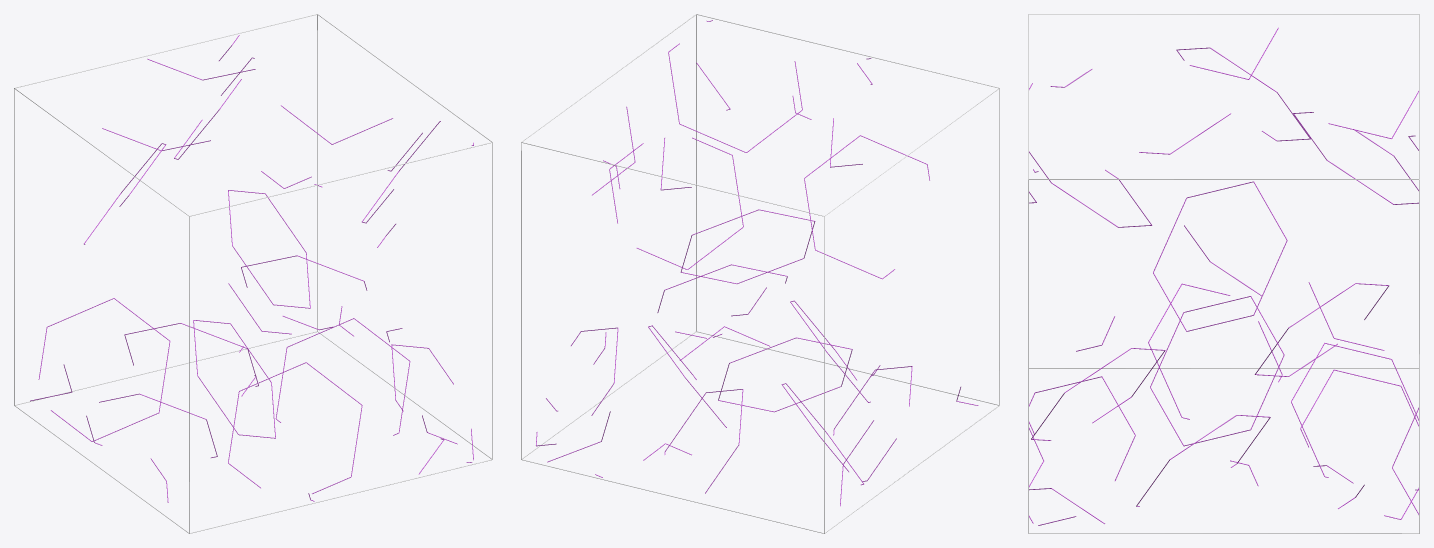
Rendered from DDD0.glb.
3 renders of one model, left to right at view 1: azimuth 30°, elevation 25°; view 2: azimuth 150°, elevation 25°; view 3: azimuth 270°, elevation 25°, orthographic. The views are drawn at different scales.
Parts seen in each view (by area): view 1: Shape_IndexedLineSet.001, Shape_IndexedLineSet; view 2: Shape_IndexedLineSet.001, Shape_IndexedLineSet; view 3: Shape_IndexedLineSet.001, Shape_IndexedLineSet.
Boxes of the visible parts, box(x1,y1,x2,y2) form: Shape_IndexedLineSet.001: box(30, 35, 473, 502); Shape_IndexedLineSet: box(14, 14, 492, 533); Shape_IndexedLineSet.001: box(536, 20, 978, 506); Shape_IndexedLineSet: box(521, 14, 999, 533); Shape_IndexedLineSet.001: box(1029, 27, 1418, 525); Shape_IndexedLineSet: box(1028, 14, 1419, 533).
Bounding box in the file's own units: 10.02 × 10.02 × 10.02.
